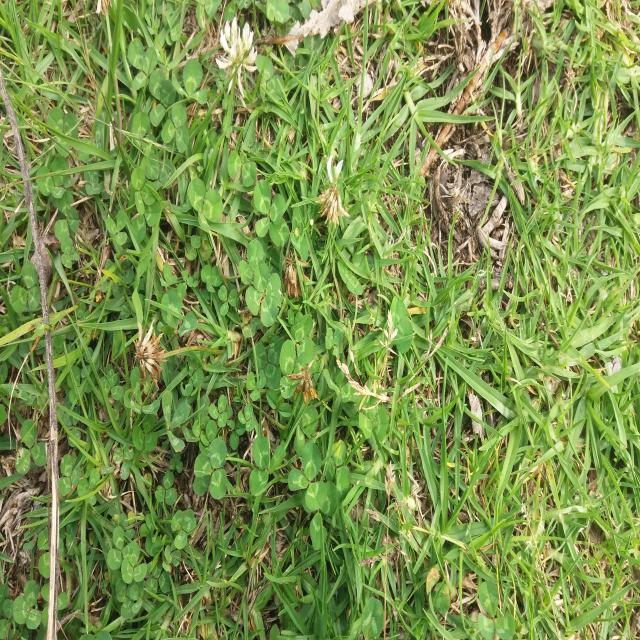Four Leaf Clover: (245, 264, 283, 327)
